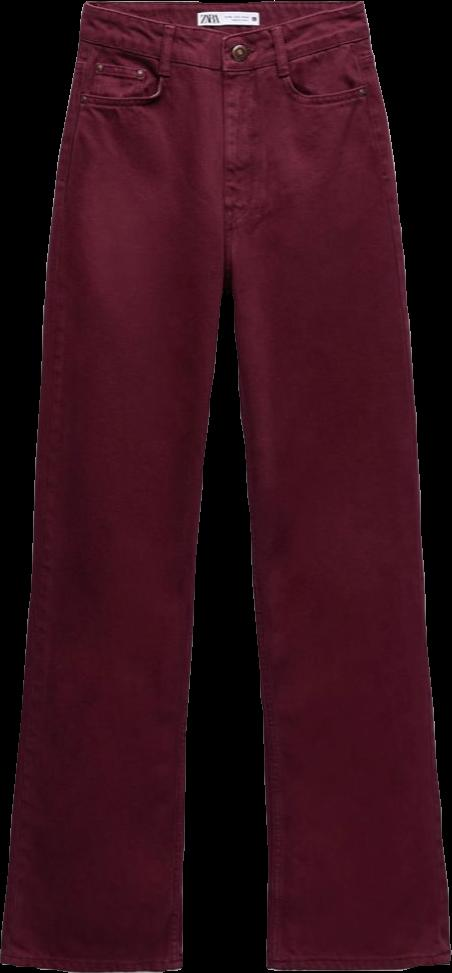Hemline: (264, 953, 451, 972), (0, 953, 187, 972)
Pantleg: (217, 1, 450, 971), (1, 0, 222, 972)
Waistline: (77, 31, 369, 74), (84, 0, 364, 32)
